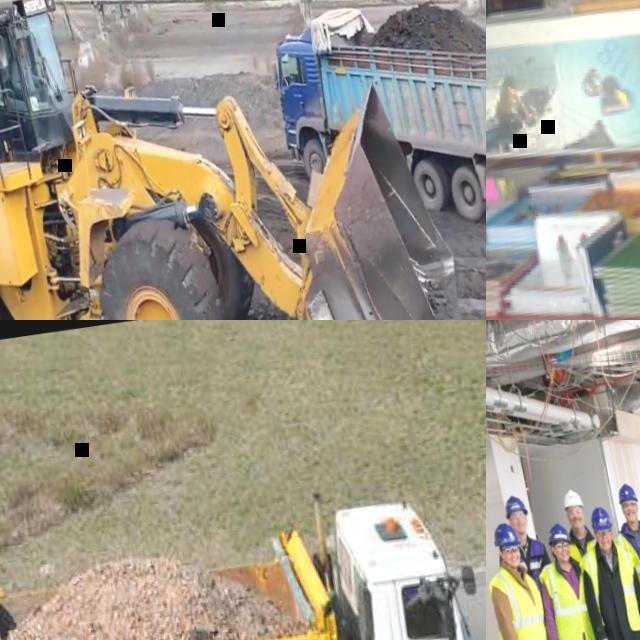Helmet: (542, 518, 578, 550), (498, 491, 534, 520), (614, 479, 640, 512), (592, 506, 618, 533), (494, 524, 520, 550), (556, 487, 585, 506)
Robbery: (588, 504, 640, 639), (487, 524, 547, 640), (540, 528, 598, 640), (507, 493, 551, 579), (560, 493, 600, 575), (613, 483, 640, 578)
